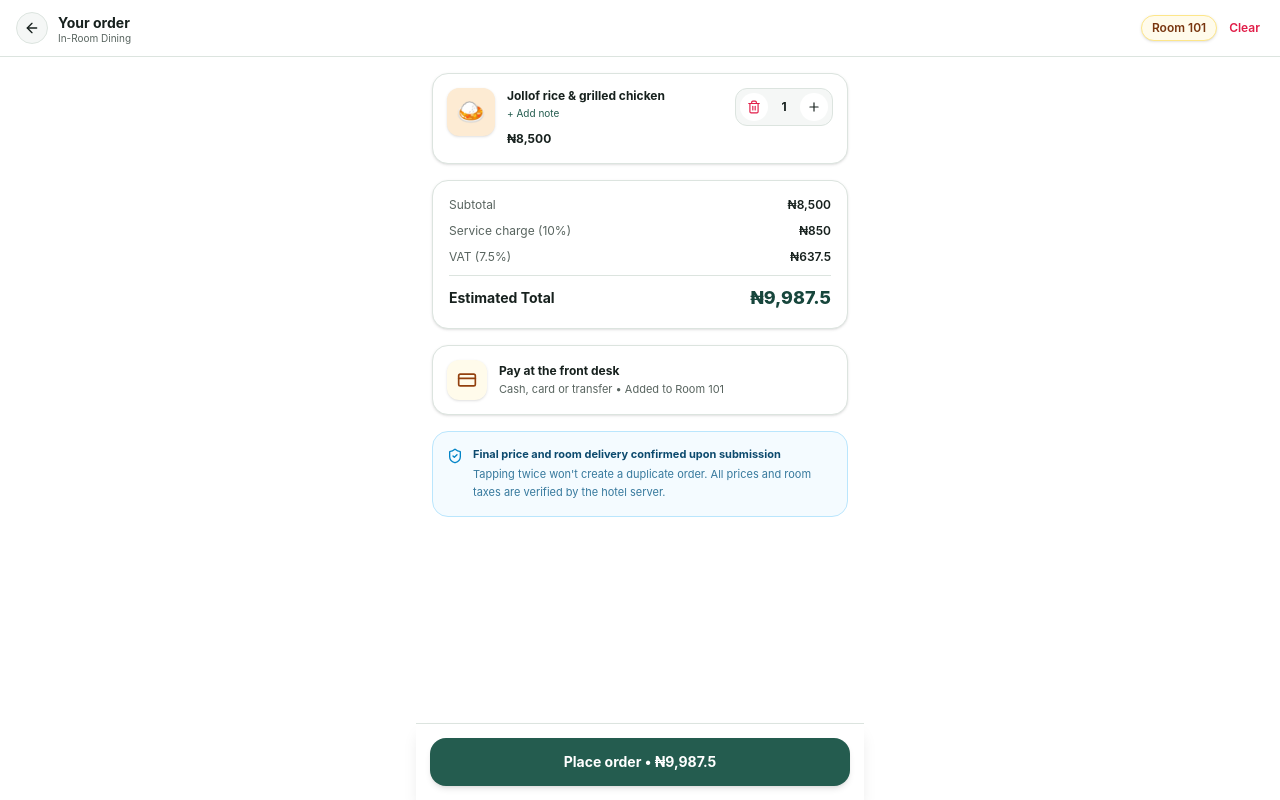
Test: CartPage Component Suite › disables place order button and shows loading spinner during in-flight submission
This screenshot has width=1280, height=800.
Later steps or results of the test are not shown.
Note: First click triggers submission
Click the button with test id "place-order-checkout-button": click(640, 762) [430,738,850,786]
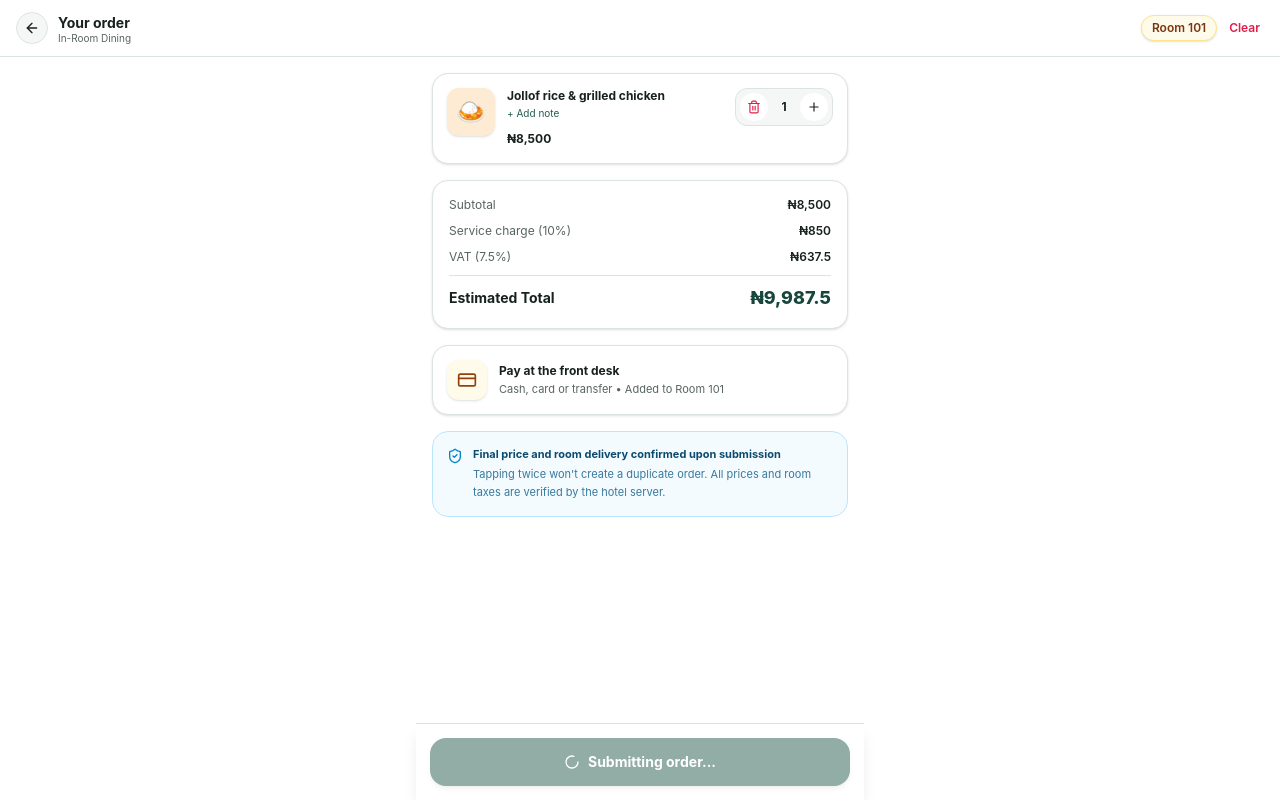
expect the button with test id "place-order-checkout-button" is disabled: met, box [430,738,850,786]
expect the text "Submitting order..." is shown: met, box [588,752,716,772]
